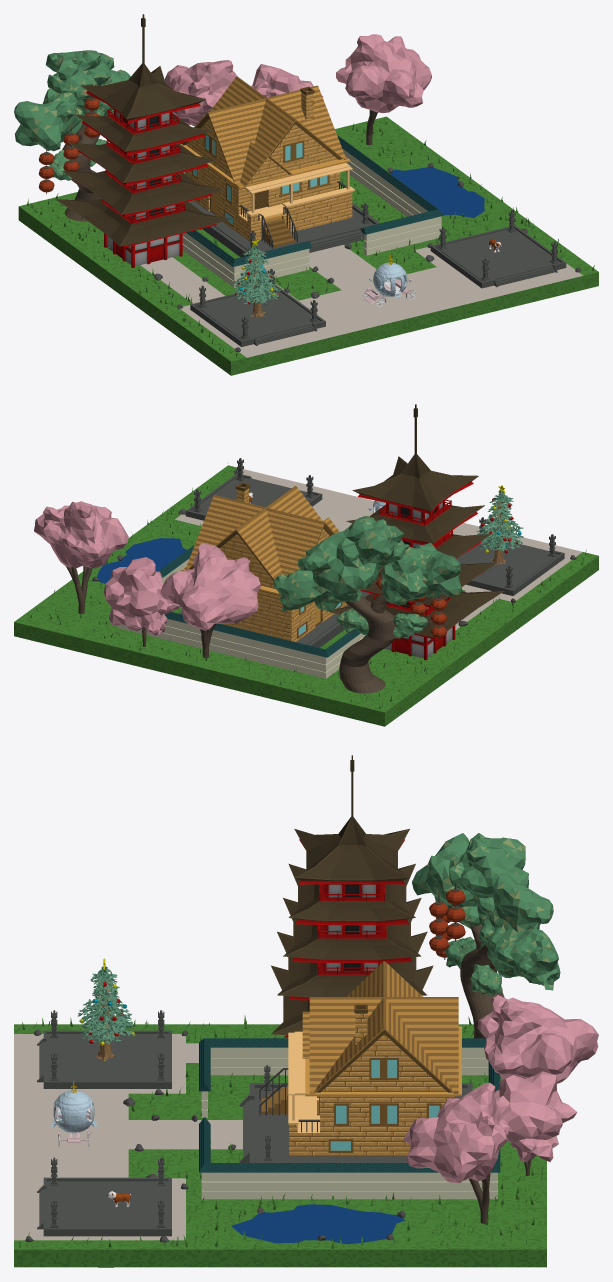
3 views of the same model, one above another, from view 1: azimuth 30°, elevation 25°; view 2: azimuth 150°, elevation 25°; view 3: azimuth 270°, elevation 25° (orthographic). The views are drawn at different scales.
Parts seen in each view (by area): view 1: Cube.005, Cube.508, OBJRANDOM_CHRISTMAS_TREE, VEHICLES_FANTASY_CARRIAGE; view 2: Cube.005, Cube.508, OBJRANDOM_CHRISTMAS_TREE; view 3: Cube.005, Cube.508, OBJRANDOM_CHRISTMAS_TREE, VEHICLES_FANTASY_CARRIAGE.
Part boxes in pixels (x1,y1,x2,y2): Cube.005: [14, 14, 598, 375]; Cube.508: [179, 76, 354, 248]; OBJRANDOM_CHRISTMAS_TREE: [231, 239, 280, 317]; VEHICLES_FANTASY_CARRIAGE: [363, 254, 416, 307]; Cube.005: [14, 404, 598, 726]; Cube.508: [181, 482, 347, 642]; OBJRANDOM_CHRISTMAS_TREE: [476, 485, 523, 564]; Cube.005: [14, 755, 598, 1267]; Cube.508: [259, 961, 461, 1156]; OBJRANDOM_CHRISTMAS_TREE: [77, 958, 135, 1060]; VEHICLES_FANTASY_CARRIAGE: [51, 1080, 96, 1146].
Bounding box in the file's own units: 4528 × 2663 × 4389.
40 materials, 6 textured.
